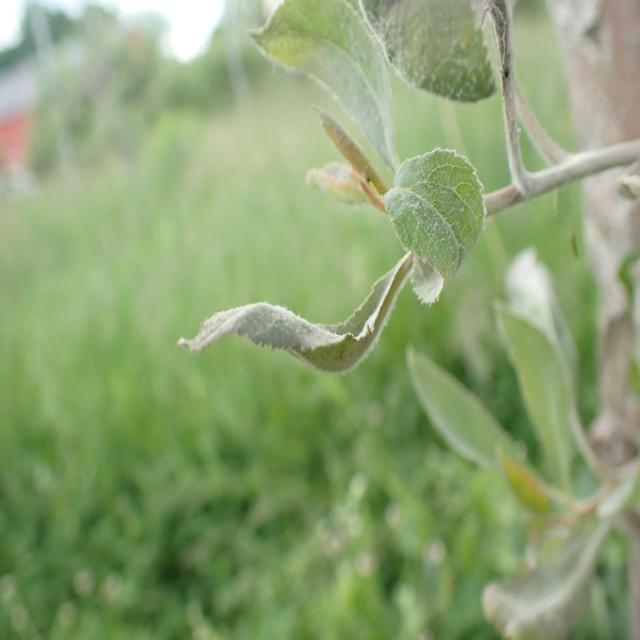Powdery_mildew: (157, 232, 413, 408), (245, 0, 403, 183), (366, 0, 535, 138), (370, 145, 493, 314)
